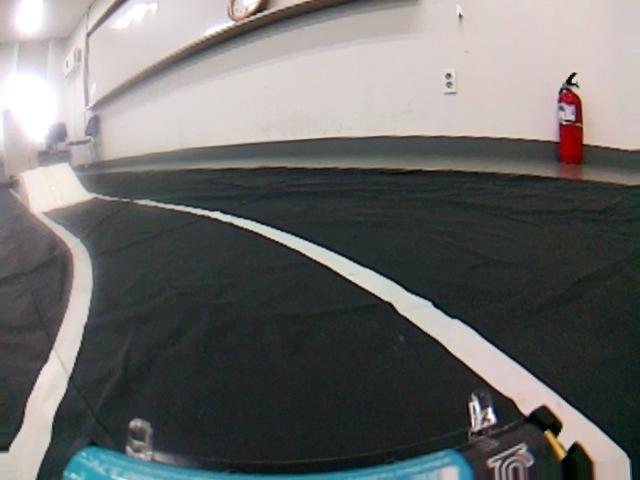straight: (4, 235, 640, 476)
